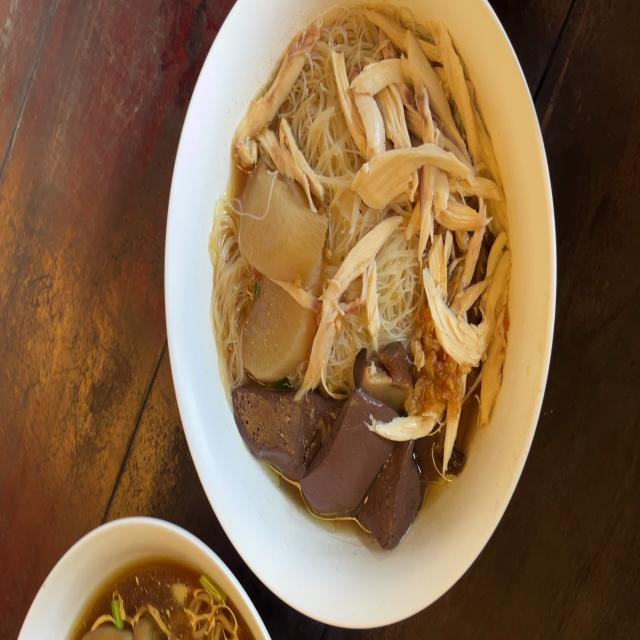boiled_chicken_blood_jelly: (242, 388, 332, 470), (312, 397, 374, 510), (371, 443, 419, 537)
chicken_shredded: (361, 12, 505, 414), (237, 35, 310, 160)
daikon_radish: (244, 163, 319, 303), (247, 272, 317, 375)
noodle: (235, 29, 478, 553), (55, 562, 237, 640)
